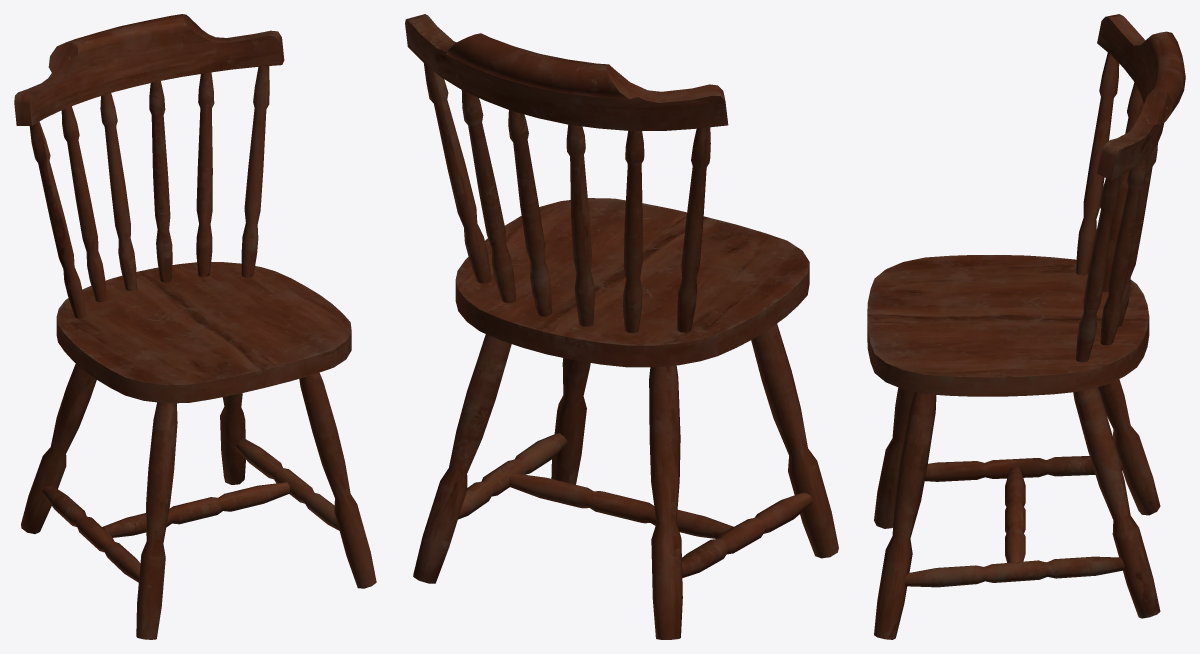
File: chair-transformed.glb
3 renders of one model, left to right at view 1: azimuth 30°, elevation 25°; view 2: azimuth 150°, elevation 25°; view 3: azimuth 270°, elevation 25°, orthographic. The views are drawn at different scales.
Visible parts, largest first — view 1: Object_3; view 2: Object_3; view 3: Object_3.
Boxes of the visible parts, box(x1,y1,x2,y2) form: Object_3: box(14, 14, 376, 639); Object_3: box(405, 14, 838, 639); Object_3: box(867, 14, 1185, 639).
Size of the model in its own units: 0.5513 by 0.9624 by 0.5334.
Materials: 1 (1 with a texture image).
